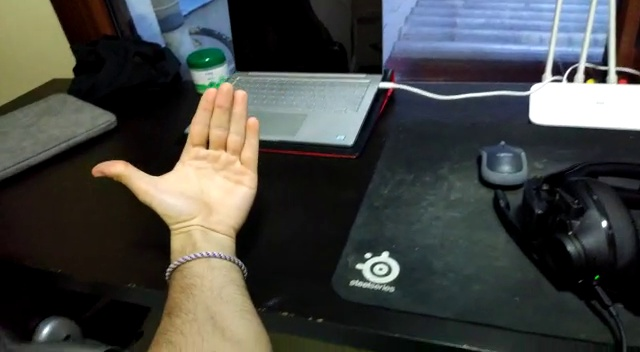Palm: (90, 80, 260, 247)
